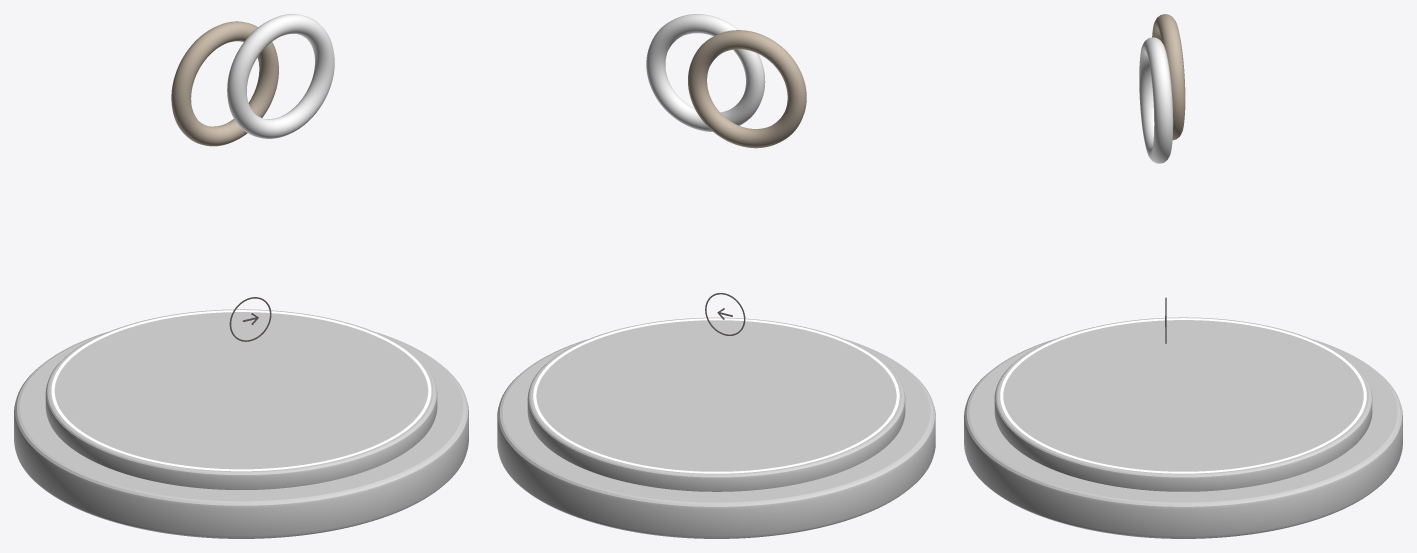
File: crystal-crystal-orbit.glb
The picture shows the model from 3 angles, left to right: view 1: azimuth 30°, elevation 25°; view 2: azimuth 150°, elevation 25°; view 3: azimuth 270°, elevation 25°; orthographic projection. The views are drawn at different scales.
Visible parts, largest first — view 1: Crystal crystal-orbit | upper porcelain plinth, Crystal crystal-orbit | lower travertine plinth, Approvals | interlocking ring 2.002, Approvals | interlocking ring 1.002, Crystal crystal-orbit | concealed warm light seam; view 2: Crystal crystal-orbit | upper porcelain plinth, Crystal crystal-orbit | lower travertine plinth, Approvals | interlocking ring 1.002, Approvals | interlocking ring 2.002, Crystal crystal-orbit | concealed warm light seam; view 3: Crystal crystal-orbit | upper porcelain plinth, Crystal crystal-orbit | lower travertine plinth, Approvals | interlocking ring 2.002, Crystal crystal-orbit | concealed warm light seam, Approvals | interlocking ring 1.002.
Boxes of the visible parts, x1=… form: Crystal crystal-orbit | upper porcelain plinth: x1=45, y1=309, x2=437, y2=489; Crystal crystal-orbit | lower travertine plinth: x1=14, y1=332, x2=468, y2=538; Approvals | interlocking ring 2.002: x1=227, y1=14, x2=334, y2=138; Approvals | interlocking ring 1.002: x1=171, y1=21, x2=278, y2=146; Crystal crystal-orbit | concealed warm light seam: x1=51, y1=310, x2=431, y2=471; Crystal crystal-orbit | upper porcelain plinth: x1=527, y1=317, x2=905, y2=491; Crystal crystal-orbit | lower travertine plinth: x1=497, y1=339, x2=935, y2=538; Approvals | interlocking ring 1.002: x1=688, y1=30, x2=806, y2=148; Approvals | interlocking ring 2.002: x1=646, y1=14, x2=765, y2=131; Crystal crystal-orbit | concealed warm light seam: x1=533, y1=318, x2=899, y2=473; Crystal crystal-orbit | upper porcelain plinth: x1=994, y1=317, x2=1372, y2=491; Crystal crystal-orbit | lower travertine plinth: x1=964, y1=339, x2=1402, y2=538; Approvals | interlocking ring 2.002: x1=1139, y1=37, x2=1173, y2=163; Crystal crystal-orbit | concealed warm light seam: x1=1000, y1=318, x2=1366, y2=473; Approvals | interlocking ring 1.002: x1=1152, y1=14, x2=1185, y2=140.
Bounding box in the file's own units: 2.88 × 3.02 × 2.88.
